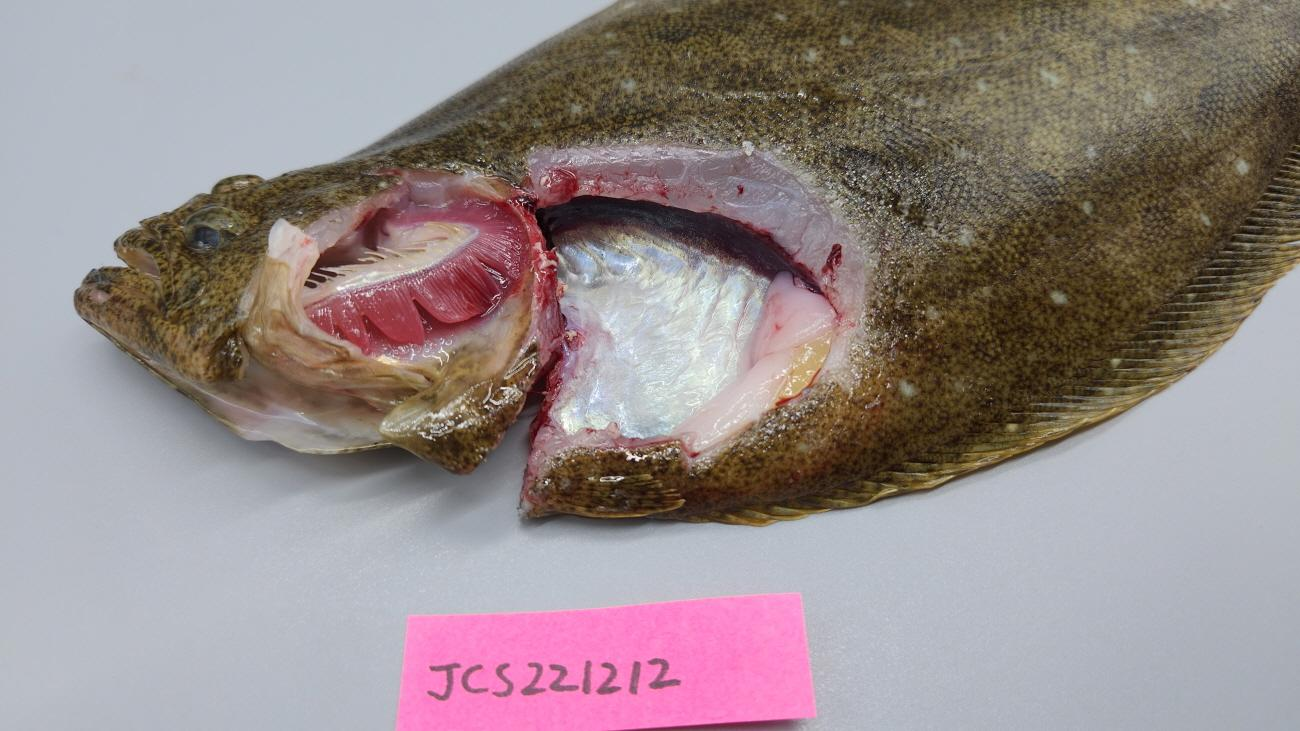POASN: (548, 223, 770, 439)
POKIN: (536, 195, 823, 294)
POREN: (668, 270, 838, 452)
